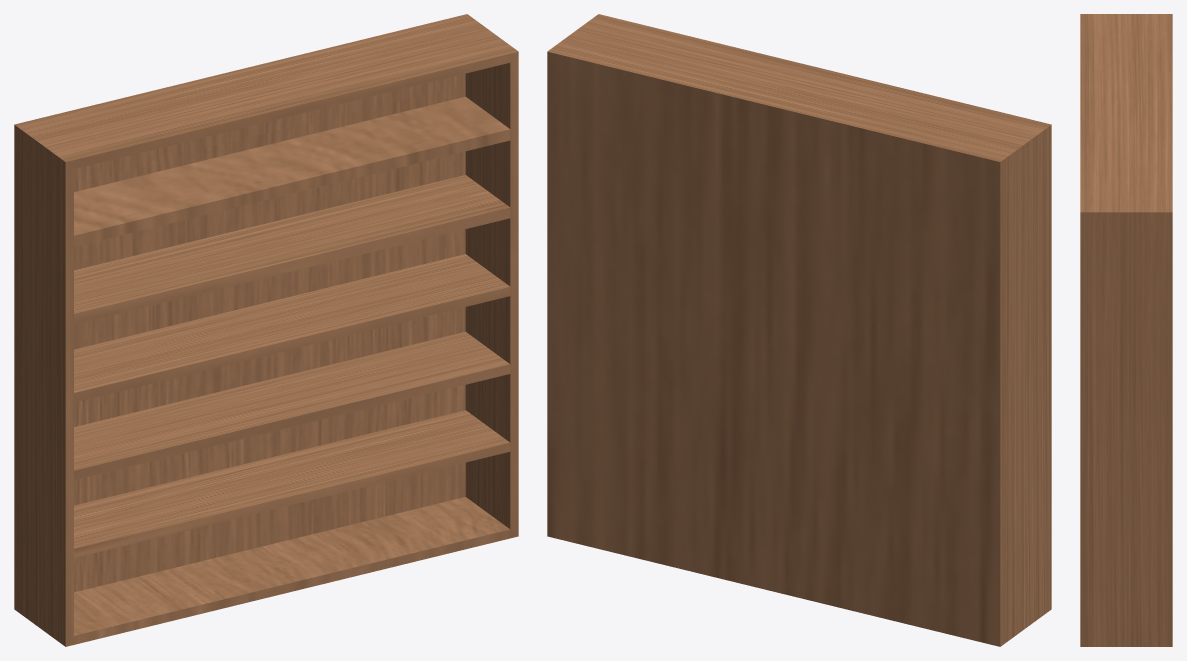
The model's file is hylly.fbx.
3 views of the same model, side by side, from view 1: azimuth 30°, elevation 25°; view 2: azimuth 150°, elevation 25°; view 3: azimuth 270°, elevation 25° (orthographic). The views are drawn at different scales.
Parts seen in each view (by area): view 1: Cube.001; view 2: Cube.001; view 3: Cube.001.
Part boxes in pixels (x1,y1,x2,y2): Cube.001: (14,14,518,646); Cube.001: (547,14,1051,646); Cube.001: (1080,14,1172,646).
Bounding box in the file's own units: 257 × 263 × 50.59.
